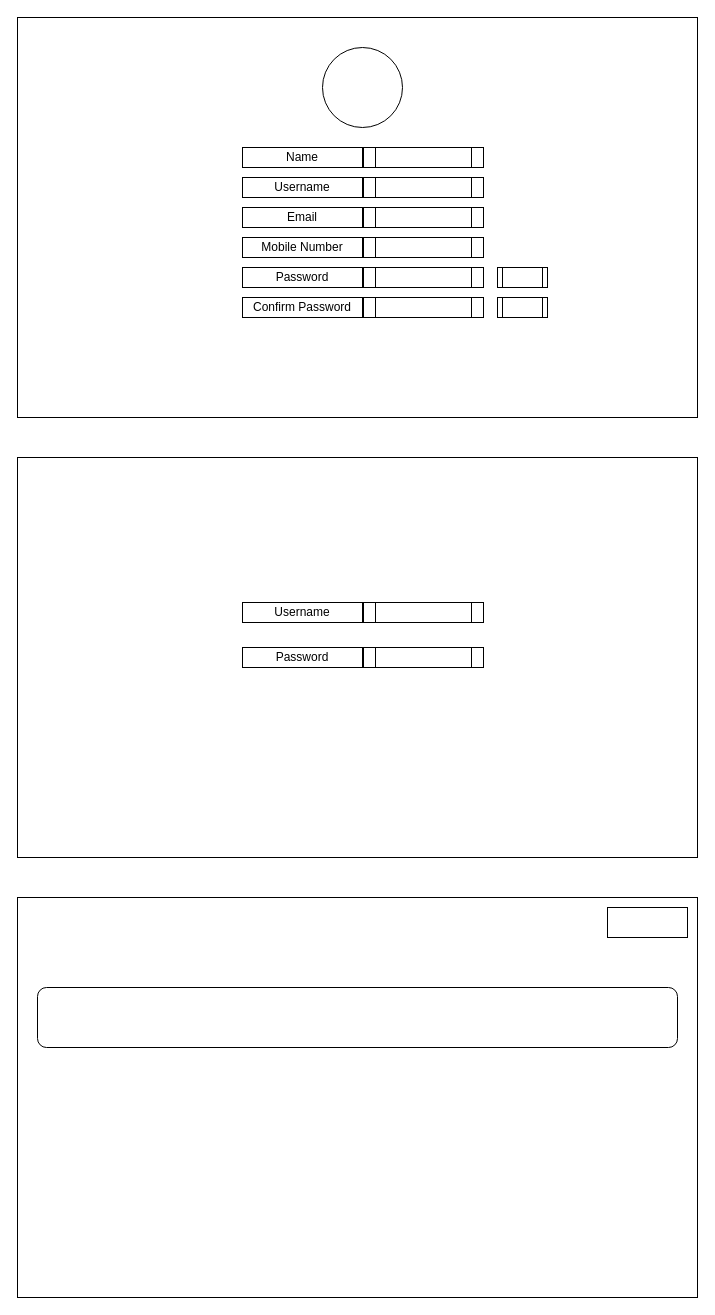
The diagram is 715 pixels wide and 1315 high, and some of its shapes have lost their labels. Here are the shapes that lost their labels. From the top down, the centre of each, then its label:
At (647,922): "Sign Out".
At (357,1017): "Welcome <Name>".
